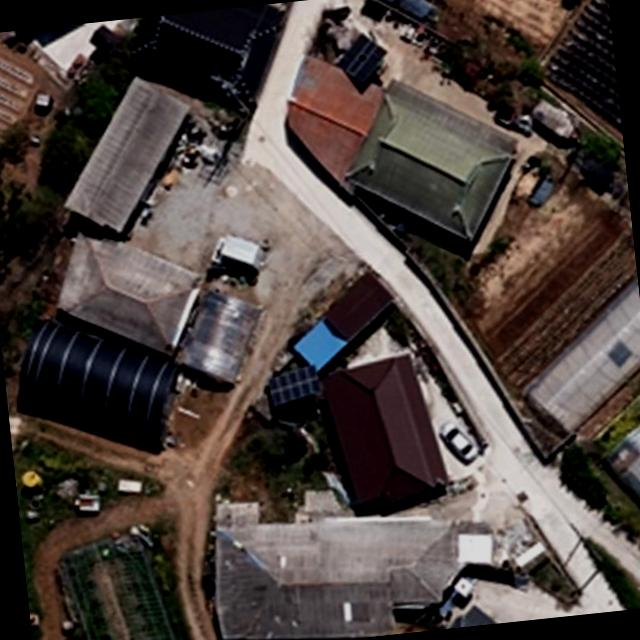solar: (331, 29, 391, 85), (263, 358, 325, 412)
